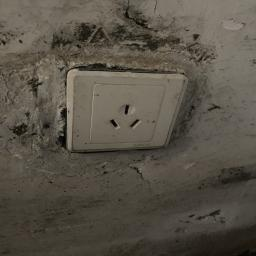outlet: (56, 57, 193, 165)
